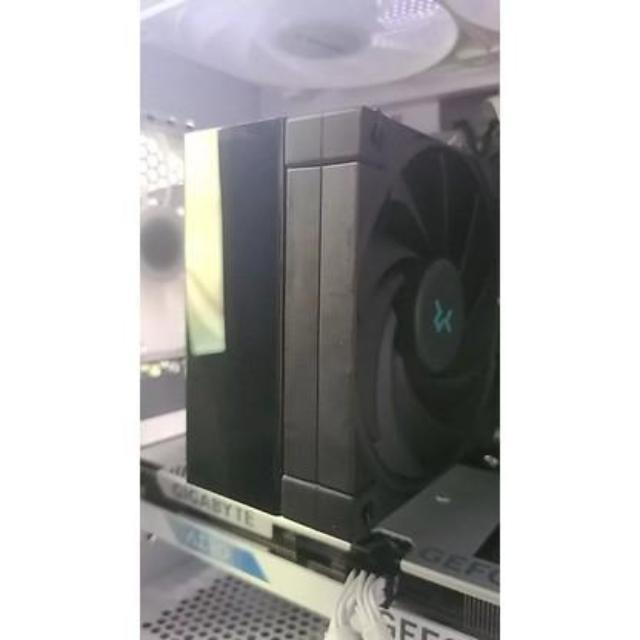CPU_Fan: (186, 108, 500, 543)
